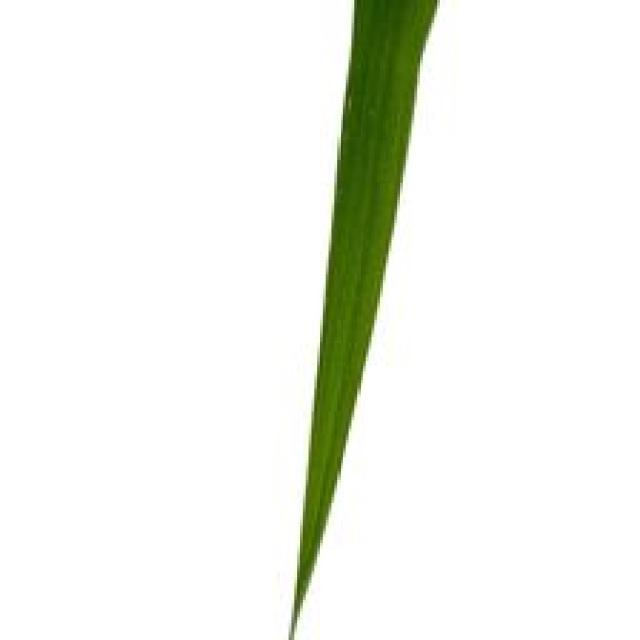Rice___Healthy_Rice_Plant: (292, 0, 443, 637)
